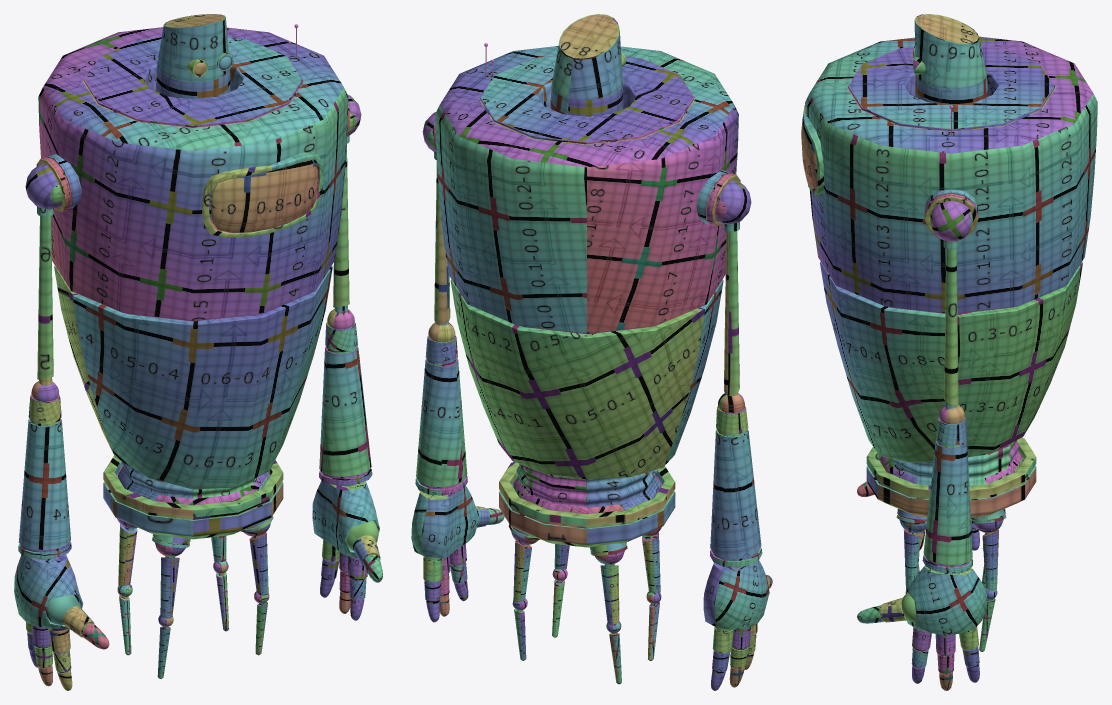
Rendered from UVRibi.fbx.
3 renders of one model, left to right at view 1: azimuth 30°, elevation 25°; view 2: azimuth 150°, elevation 25°; view 3: azimuth 270°, elevation 25°, orthographic. The views are drawn at different scales.
Visible parts, largest first — view 1: Torso_Geo, L_Elbow_Geo2, Hip_Geo, L_Elbow_Geo, Head_Geo, L_Shoulder_Geo2, L_Hand_Geo2, L_Hand_Geo, Spine_Geo, L_Shoulder_Geo, R_FT_Thigh_Geo, L_Finger_01_Joint_01_Geo2 (+7 smaller); view 2: Torso_Geo, Hip_Geo, L_Elbow_Geo2, L_Elbow_Geo, Head_Geo, Spine_Geo, L_Hand_Geo2, L_Hand_Geo, L_Shoulder_Geo2, L_Shoulder_Geo, R_FT_Thigh_Geo10, R_FT_Thigh_Geo8 (+7 smaller); view 3: Torso_Geo, L_Elbow_Geo, Head_Geo, Hip_Geo, L_Hand_Geo, L_Shoulder_Geo, Spine_Geo, R_FT_Thigh_Geo8, R_FT_Thigh_Geo4, L_Finger_01_Joint_01_Geo, R_FT_Knee_Geo8.
Part boxes in pixels (left/top/right/bottom): Torso_Geo: left=36, top=24, right=350, bottom=489; L_Elbow_Geo2: left=18, top=381, right=71, bottom=558; Hip_Geo: left=103, top=456, right=283, bottom=547; L_Elbow_Geo: left=319, top=309, right=372, bottom=485; Head_Geo: left=155, top=14, right=233, bottom=99; L_Shoulder_Geo2: left=25, top=164, right=62, bottom=385; L_Hand_Geo2: left=14, top=554, right=83, bottom=629; L_Hand_Geo: left=312, top=481, right=379, bottom=556; Spine_Geo: left=118, top=461, right=268, bottom=505; L_Shoulder_Geo: left=333, top=94, right=361, bottom=313; R_FT_Thigh_Geo: left=155, top=543, right=185, bottom=618; L_Finger_01_Joint_01_Geo2: left=45, top=594, right=94, bottom=637; Torso_Geo: left=433, top=43, right=740, bottom=479; Hip_Geo: left=499, top=462, right=675, bottom=555; L_Elbow_Geo2: left=710, top=393, right=762, bottom=567; L_Elbow_Geo: left=415, top=322, right=467, bottom=495; Head_Geo: left=550, top=14, right=626, bottom=116; Spine_Geo: left=513, top=464, right=660, bottom=514; L_Hand_Geo2: left=703, top=560, right=769, bottom=630; L_Hand_Geo: left=411, top=486, right=478, bottom=558; L_Shoulder_Geo2: left=715, top=180, right=751, bottom=396; L_Shoulder_Geo: left=422, top=112, right=450, bottom=325; R_FT_Thigh_Geo10: left=594, top=551, right=624, bottom=625; R_FT_Thigh_Geo8: left=511, top=531, right=538, bottom=602; Torso_Geo: left=801, top=36, right=1097, bottom=462; L_Elbow_Geo: left=922, top=405, right=972, bottom=573; Head_Geo: left=913, top=14, right=988, bottom=104; Hip_Geo: left=866, top=437, right=1036, bottom=523; L_Hand_Geo: left=907, top=565, right=987, bottom=635; L_Shoulder_Geo: left=930, top=200, right=972, bottom=408; Spine_Geo: left=880, top=440, right=1022, bottom=485; R_FT_Thigh_Geo8: left=974, top=520, right=1003, bottom=590; R_FT_Thigh_Geo4: left=899, top=520, right=926, bottom=590; L_Finger_01_Joint_01_Geo: left=881, top=592, right=916, bottom=622; R_FT_Knee_Geo8: left=979, top=587, right=997, bottom=651.
Size of the model in its own units: 9.14 by 16.07 by 7.09.
3 materials, 3 textured.
